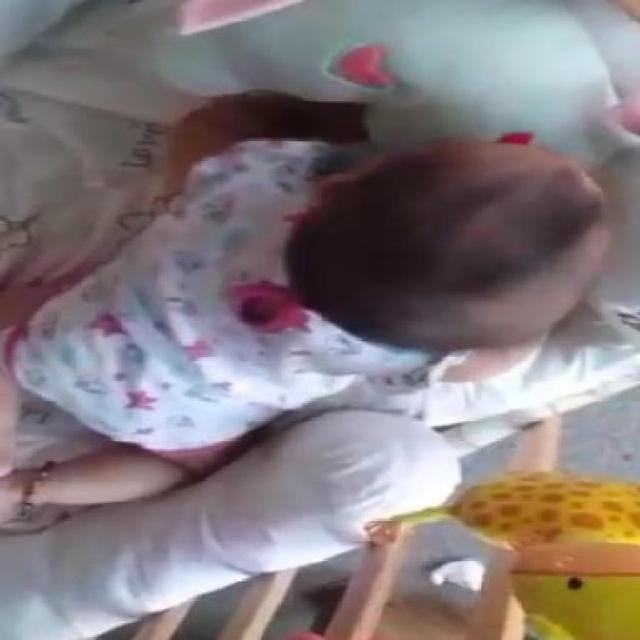baby: (2, 86, 610, 509)
